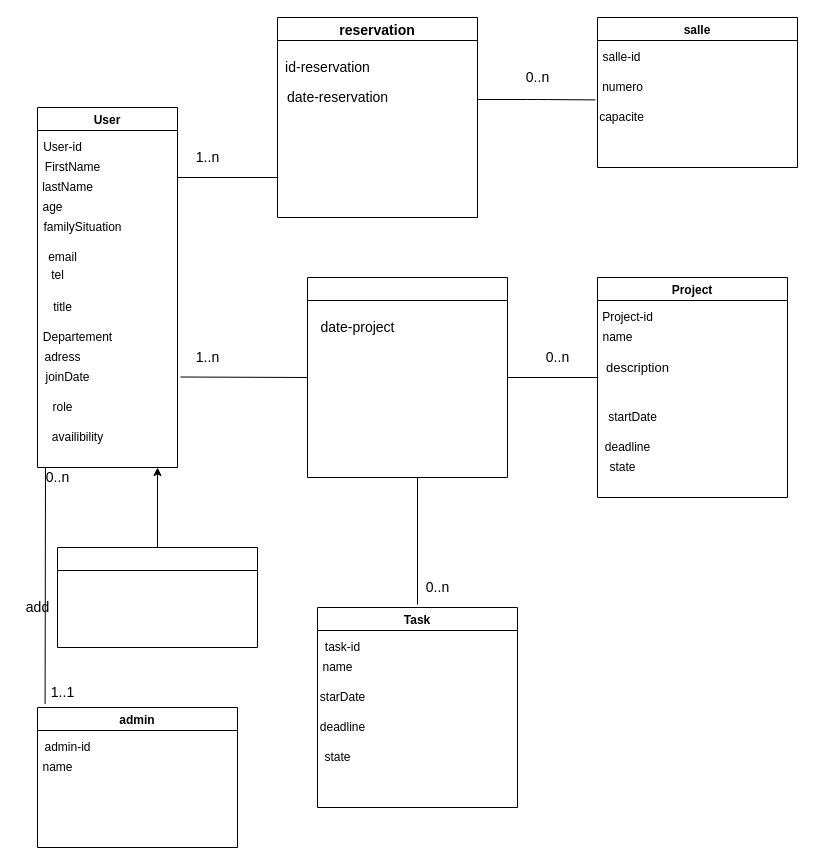
This 815x865 diagram has some shape labels left out. The box of each missing label's shape, as (x1, y1, x2, y2) in pixels:
manager: (56, 546, 258, 648)
project-creation: (306, 276, 508, 478)
